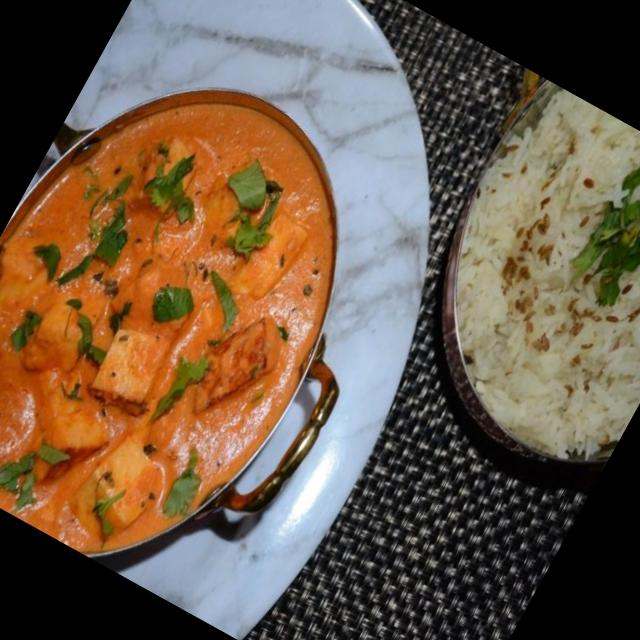rice: (450, 96, 640, 403)
